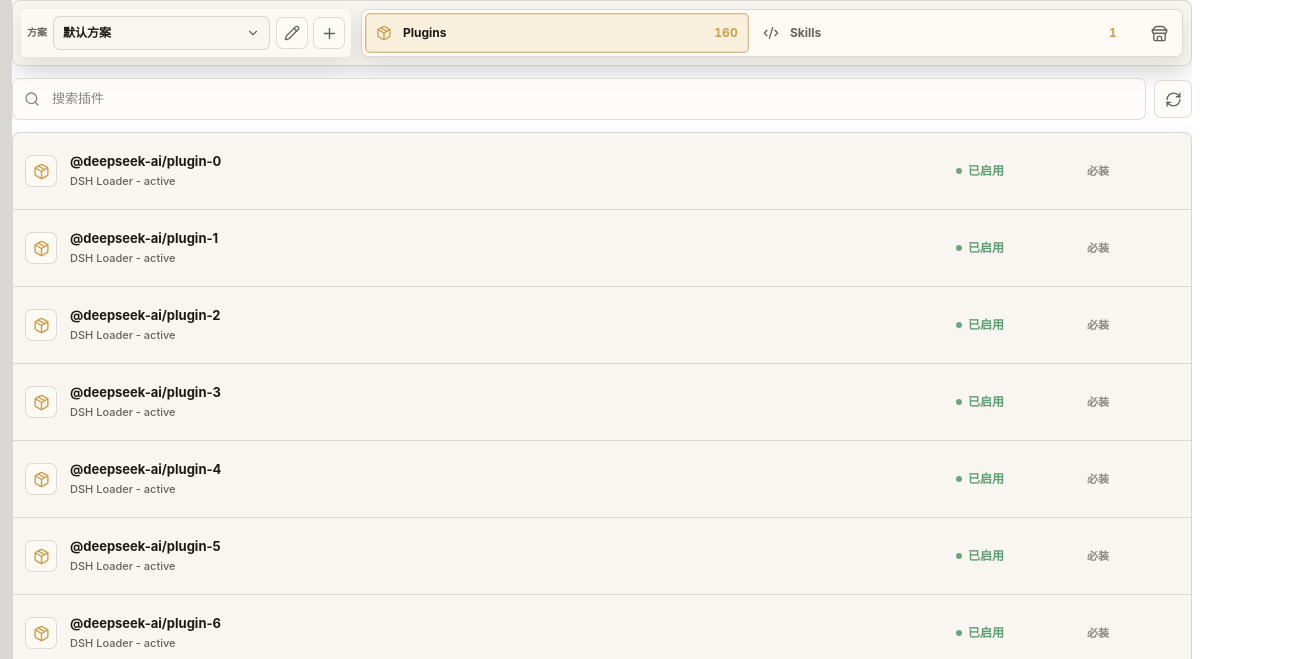
Test case: DSH resource schemes page › keeps base themes out of plugin views when a historical runtime mapping remains
Expected: the text "@deepseek-ai/plugin-0" is shown, [70,153,221,170]
Expected: the text "Ocean Theme" is not shown
Click the button titled "编辑" at (292, 33), box [276,17,308,49]
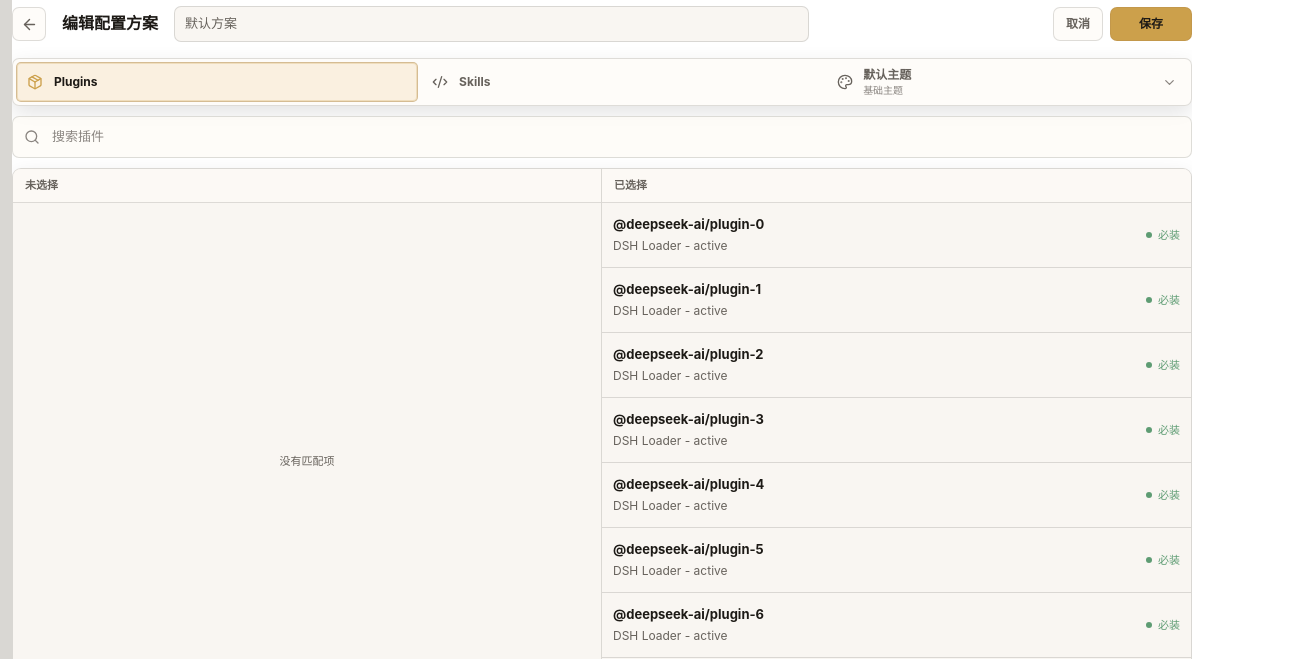
Type "ocean-theme" into the field with placeholder "搜索插件" at (616, 137), box [52,117,1180,157]
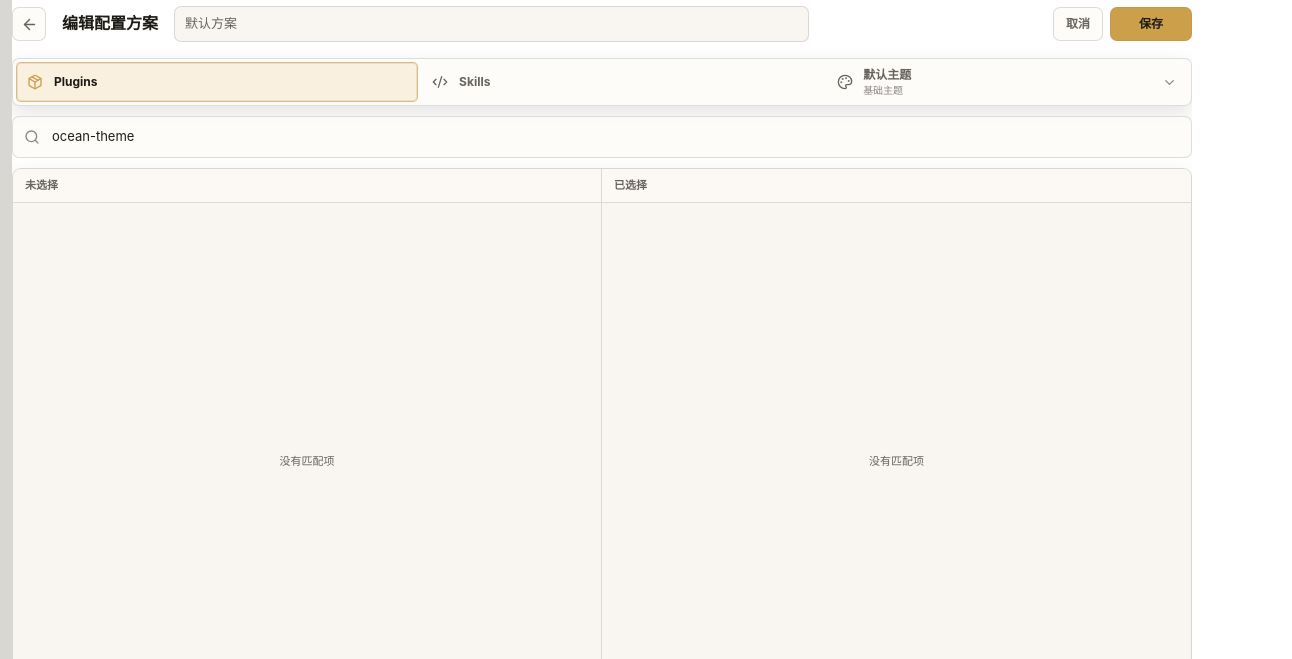
Click the button "默认主题 基础主题" at (887, 75), box [826,62,1188,102]
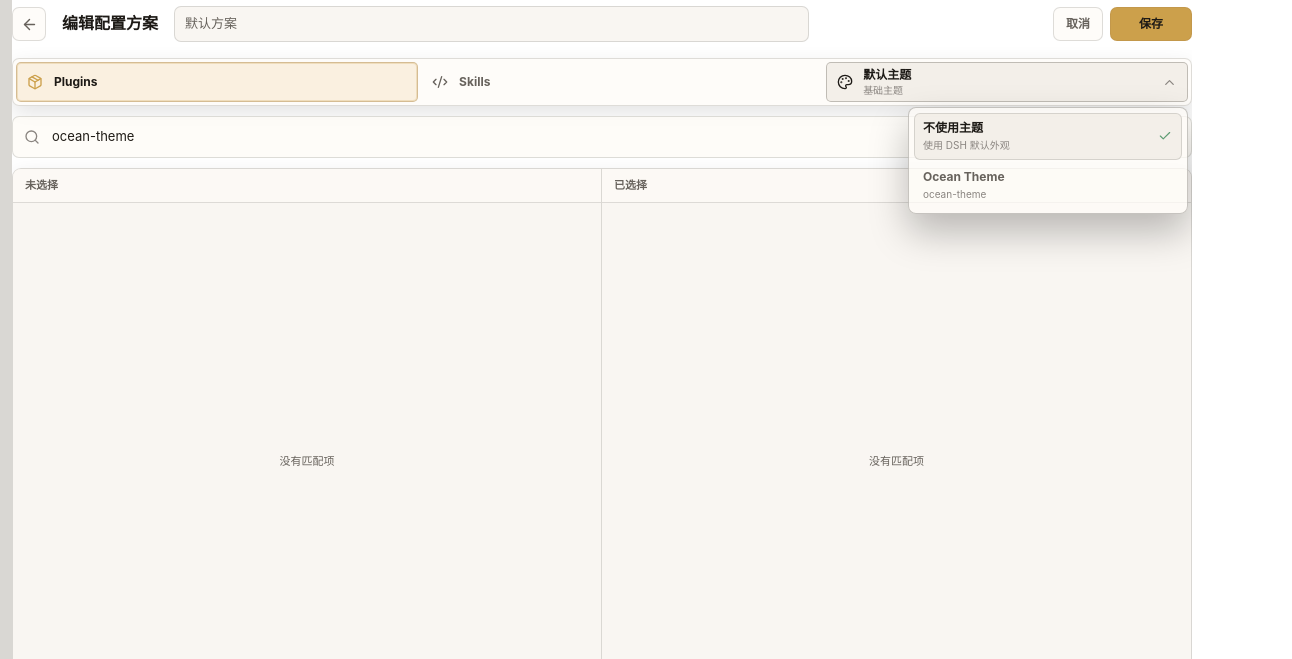
Expected: the option "Ocean Theme ocean-theme" is shown, [914,162,1182,208]
